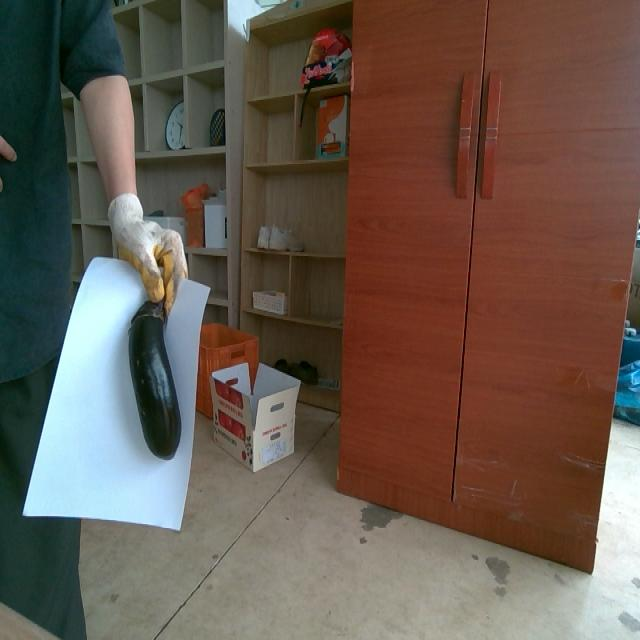Egg plant: (130, 301, 182, 459)
